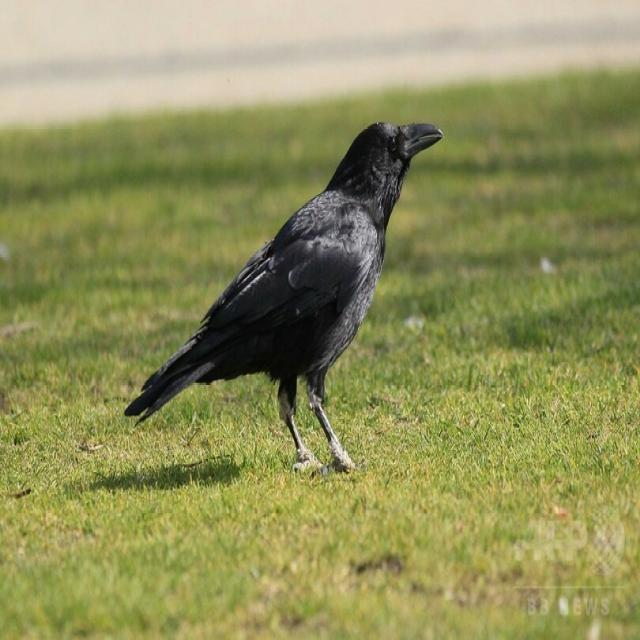crow: (118, 105, 465, 487)
